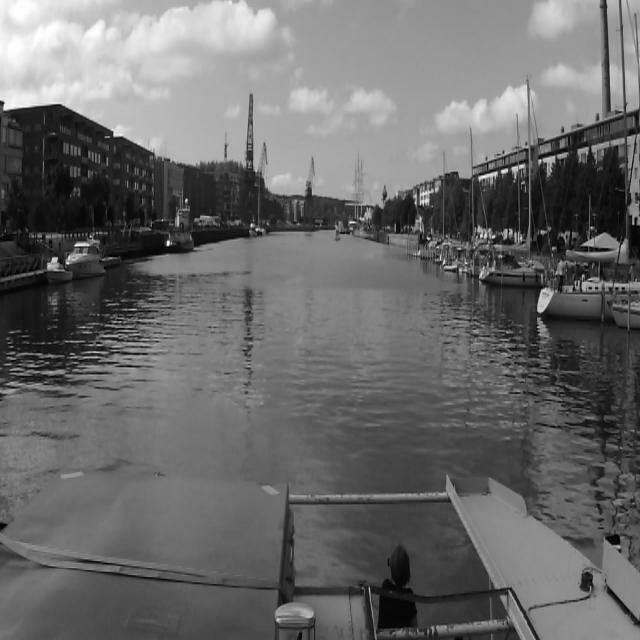ship: (539, 0, 639, 311), (478, 79, 544, 281), (345, 152, 367, 229), (166, 200, 196, 252), (72, 240, 108, 280), (43, 256, 71, 283), (257, 170, 265, 237), (248, 219, 260, 237), (333, 228, 341, 242)
